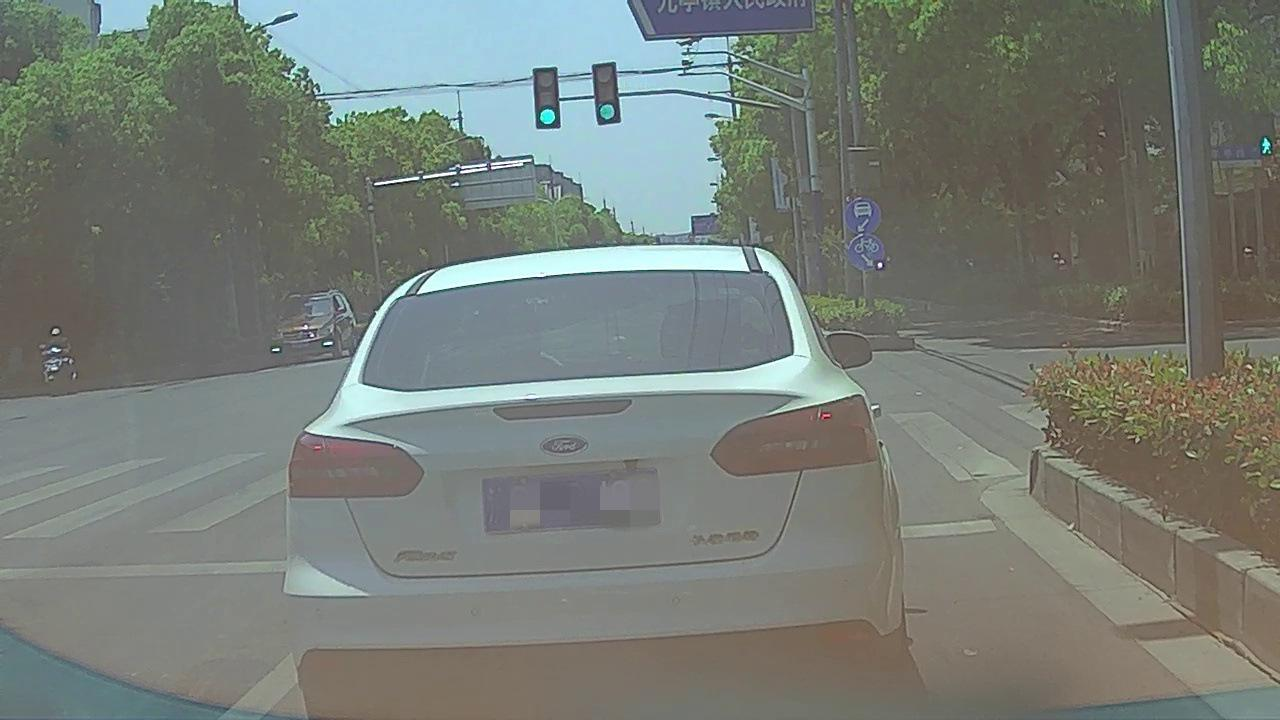traffic_light: (592, 61, 621, 124), (534, 70, 560, 127)
